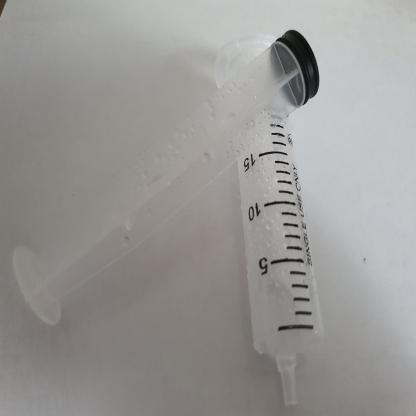wet: (0, 30, 325, 340), (218, 26, 327, 410)
